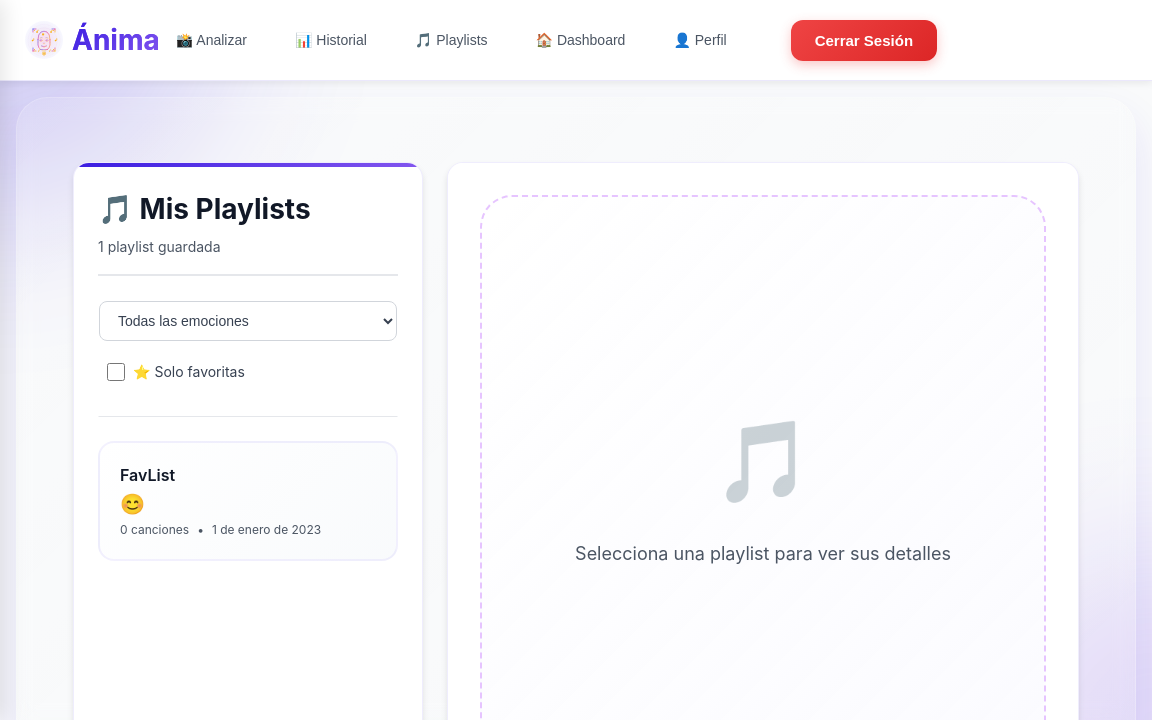
it: PlaylistsPage › toggles favorite and updates selected playlist star
The width and height of the screenshot is (1152, 720).
Click the heading "FavList" at (148,475), box [120,465,175,485]
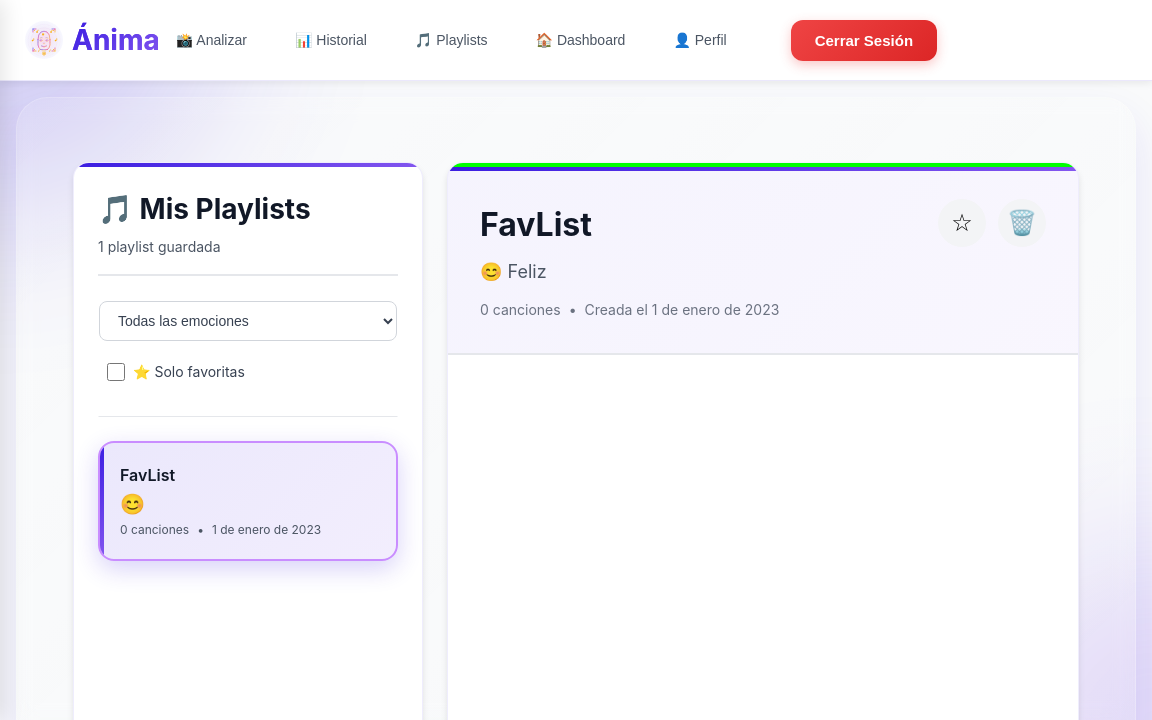
Result: the button titled "Agregar a favoritos" is shown
Click the button titled "Agregar a favoritos" at (962,223), box [938,199,986,247]
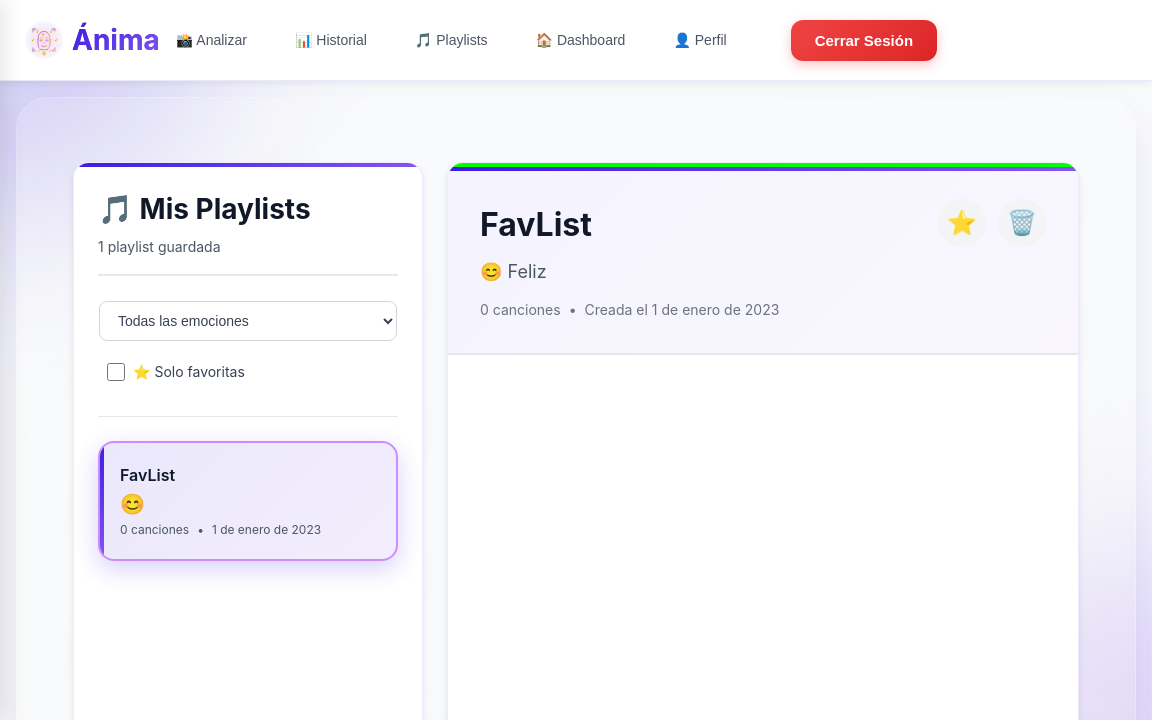
Result: the button titled "Quitar de favoritos" reads "⭐" at [938,199,986,247]
